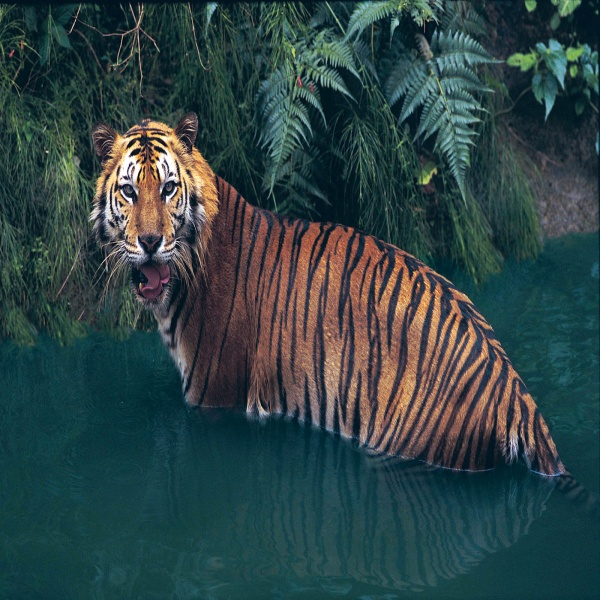Tiger: (83, 111, 587, 514)
